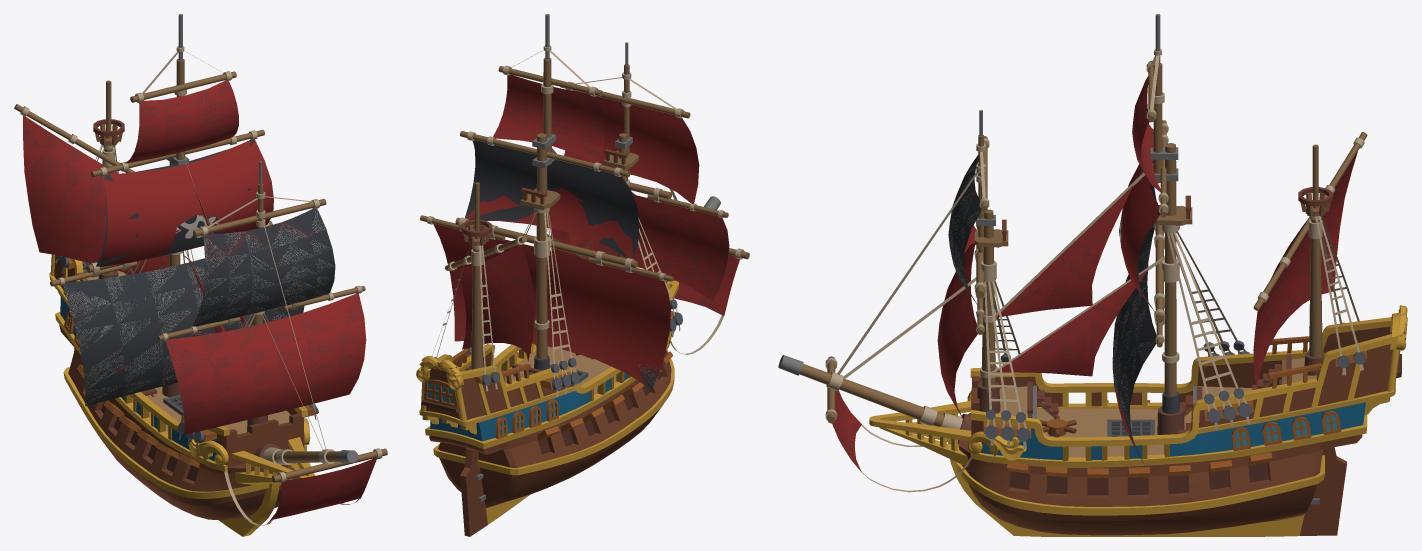
File: Schooner.fbx
3 views of the same model, side by side, from view 1: azimuth 30°, elevation 25°; view 2: azimuth 150°, elevation 25°; view 3: azimuth 270°, elevation 25° (orthographic). The views are drawn at different scales.
Visible parts, largest first — view 1: Sails_Red, Sails_Black, Schooner, Sails_White, Upgrade_02, Upgrade_01; view 2: Sails_Red, Schooner, Sails_Black, Upgrade_02, Rudder, Upgrade_01; view 3: Schooner, Sails_Red, Sails_Black, Upgrade_02, Rudder, Upgrade_01, Sails_White.
Boxes of the visible parts, left/top/right/bottom form: Sails_Red: left=23, top=80, right=376, bottom=520; Sails_Black: left=23, top=81, right=375, bottom=517; Schooner: left=14, top=14, right=387, bottom=536; Sails_White: left=64, top=209, right=333, bottom=405; Upgrade_02: left=63, top=267, right=281, bottom=498; Upgrade_01: left=188, top=418, right=310, bottom=465; Sails_Red: left=433, top=74, right=739, bottom=385; Schooner: left=419, top=14, right=749, bottom=524; Sails_Black: left=453, top=80, right=735, bottom=389; Upgrade_02: left=433, top=359, right=674, bottom=475; Rudder: left=460, top=448, right=487, bottom=536; Upgrade_01: left=416, top=331, right=674, bottom=403; Schooner: left=778, top=14, right=1403, bottom=536; Sails_Red: left=832, top=76, right=1357, bottom=471; Sails_Black: left=833, top=77, right=1353, bottom=465; Upgrade_02: left=956, top=363, right=1360, bottom=515; Rudder: left=1300, top=447, right=1346, bottom=535; Upgrade_01: left=967, top=305, right=1407, bottom=460; Sails_White: left=950, top=160, right=1155, bottom=424.
Size of the model in its own units: 1063 by 1876 by 2058.
